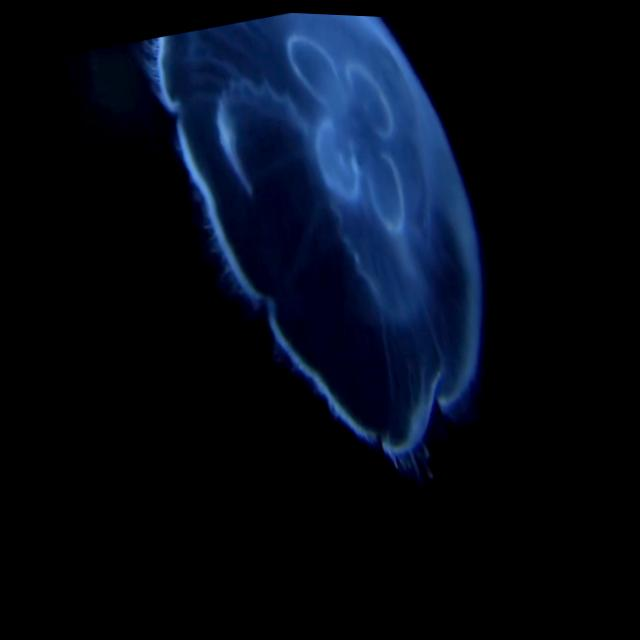Moon-jellyfish: (129, 10, 487, 478)
